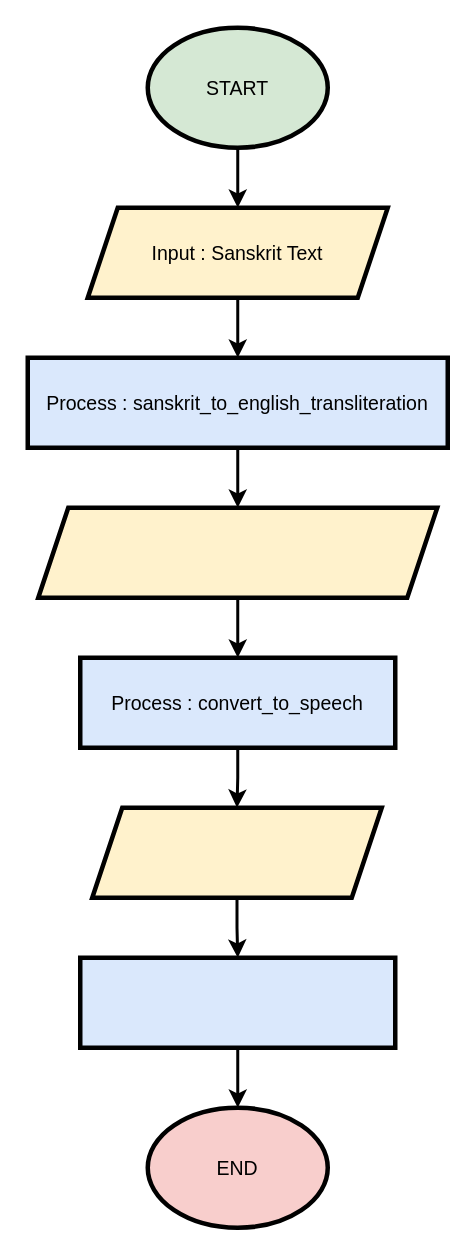
Image size: 476x1256. Some labels were removed from this diagram. The shapes that lost their labels are listed below. From the top down, each one's centre as x and y in pixels, then its label:
At (237,552): "Output: Transliterated Text (Data)".
At (236,852): "Output : MP3 file".
At (237,1002): "Process : play_audio".
